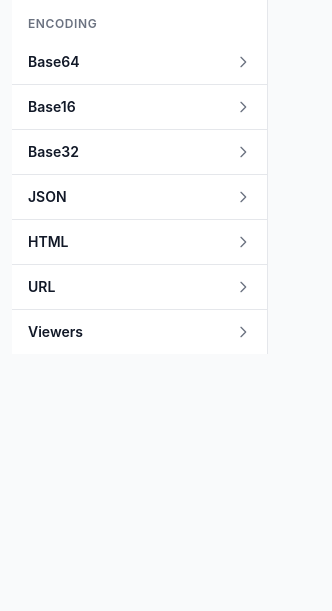
it: T040: Edge Case Testing › Multiple Groups Expanded › should handle all 3 groups expanded simultaneously
The width and height of the screenshot is (332, 611).
// Expand all groups
Click the button "Base64" at (140, 62), box 12,40 -> 267,84
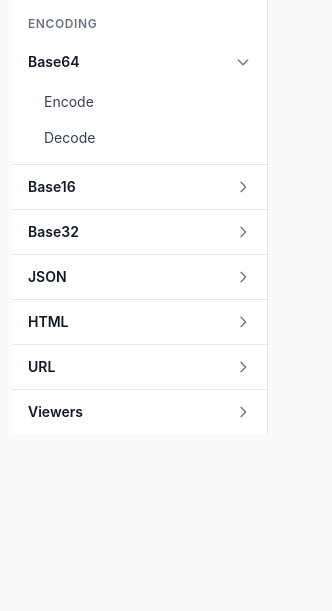
Click the button "Base16" at (140, 187), box 12,165 -> 267,209
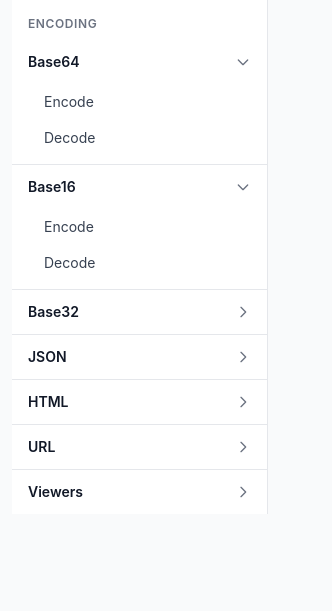
Click the button "Base32" at (140, 312), box 12,290 -> 267,334
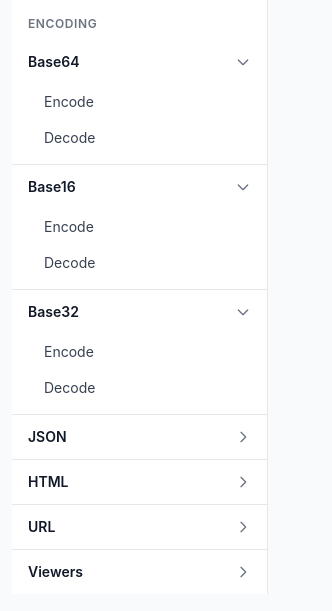
Expected: the number of buttons "Encode" is 3, 12,84 -> 267,120; 12,209 -> 267,245; 12,334 -> 267,370
Expected: the number of buttons "Decode" is 3, 12,120 -> 267,156; 12,245 -> 267,281; 12,370 -> 267,406
